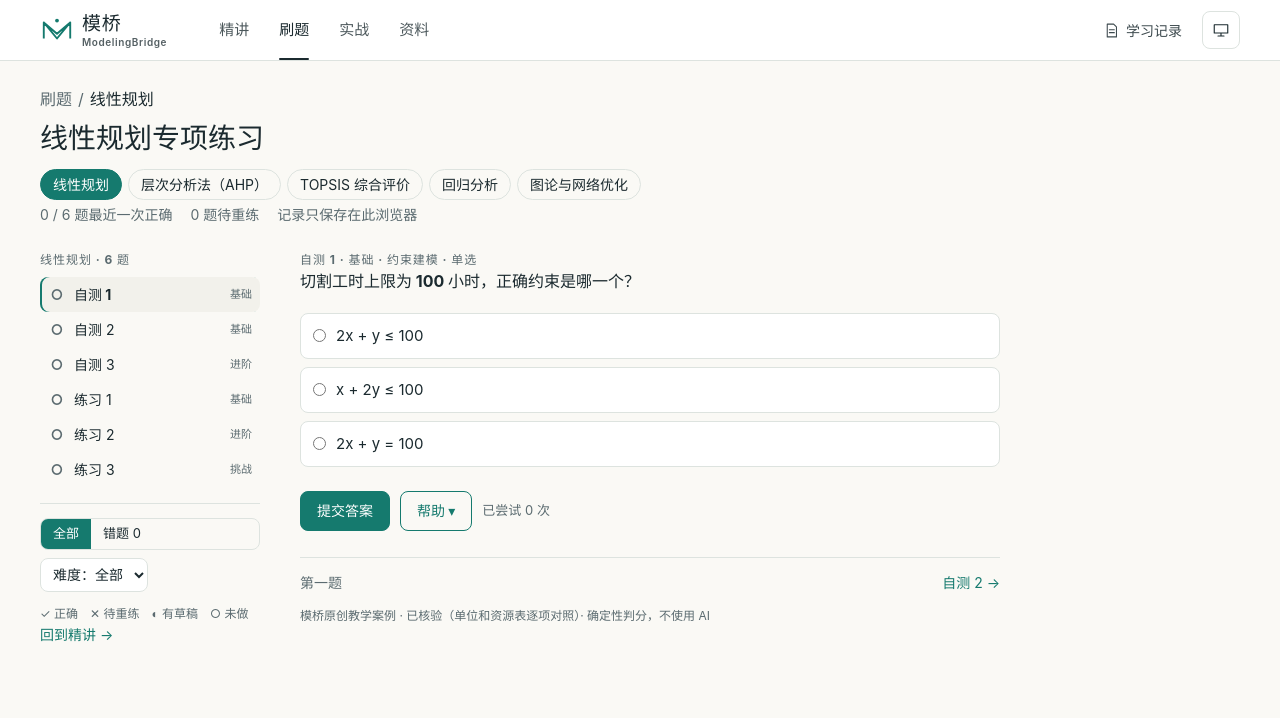
lets the learner dismiss the return bar without losing the draft
The width and height of the screenshot is (1280, 718).
Click the radio button labelled "x + 2y ≤ 100": (320, 389) [313,383,326,396]
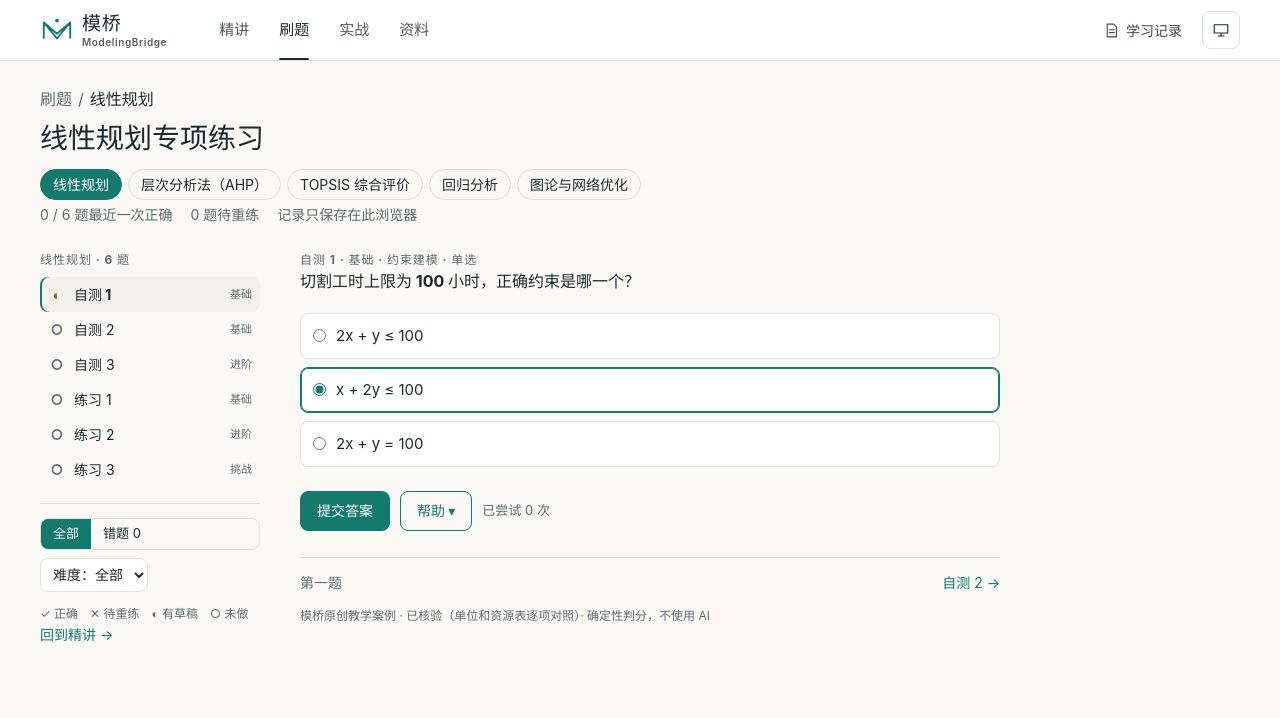
Click the button "提交答案": (345, 511) [300,491,390,531]
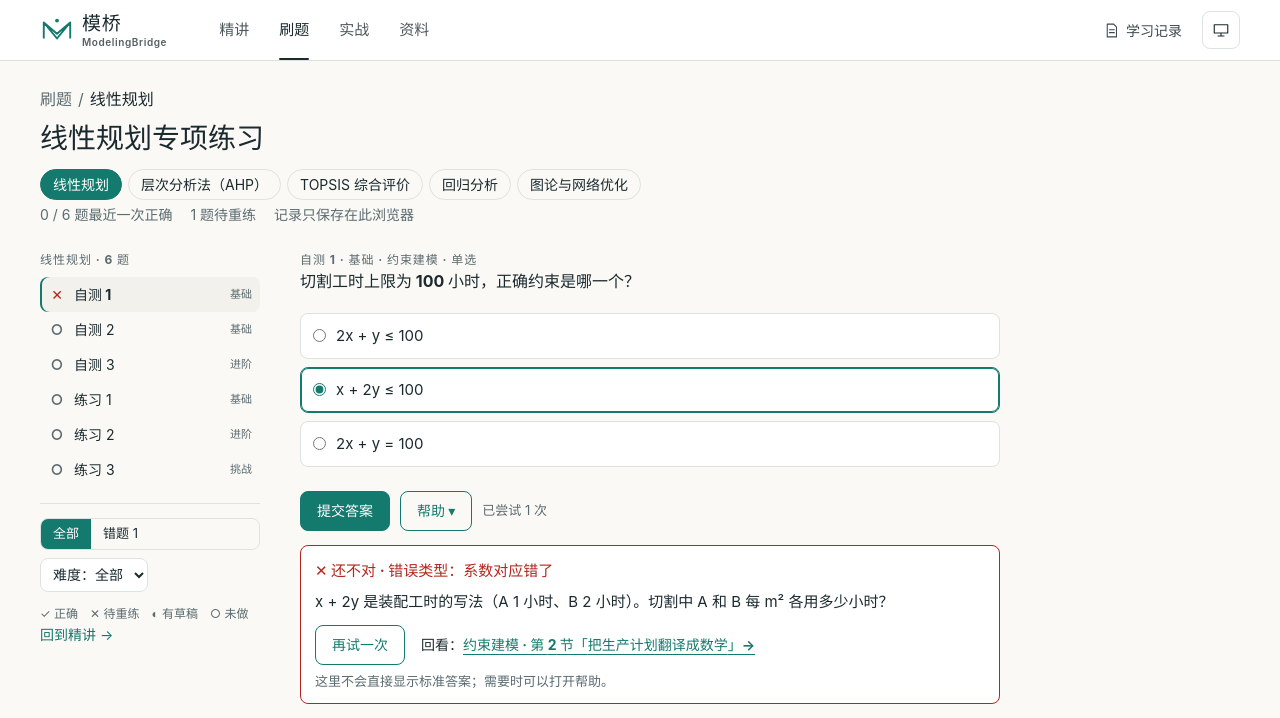
Click the button "约束建模 · 第 2 节「把生产计划翻译成数学」→": (609, 645) [463,633,755,656]
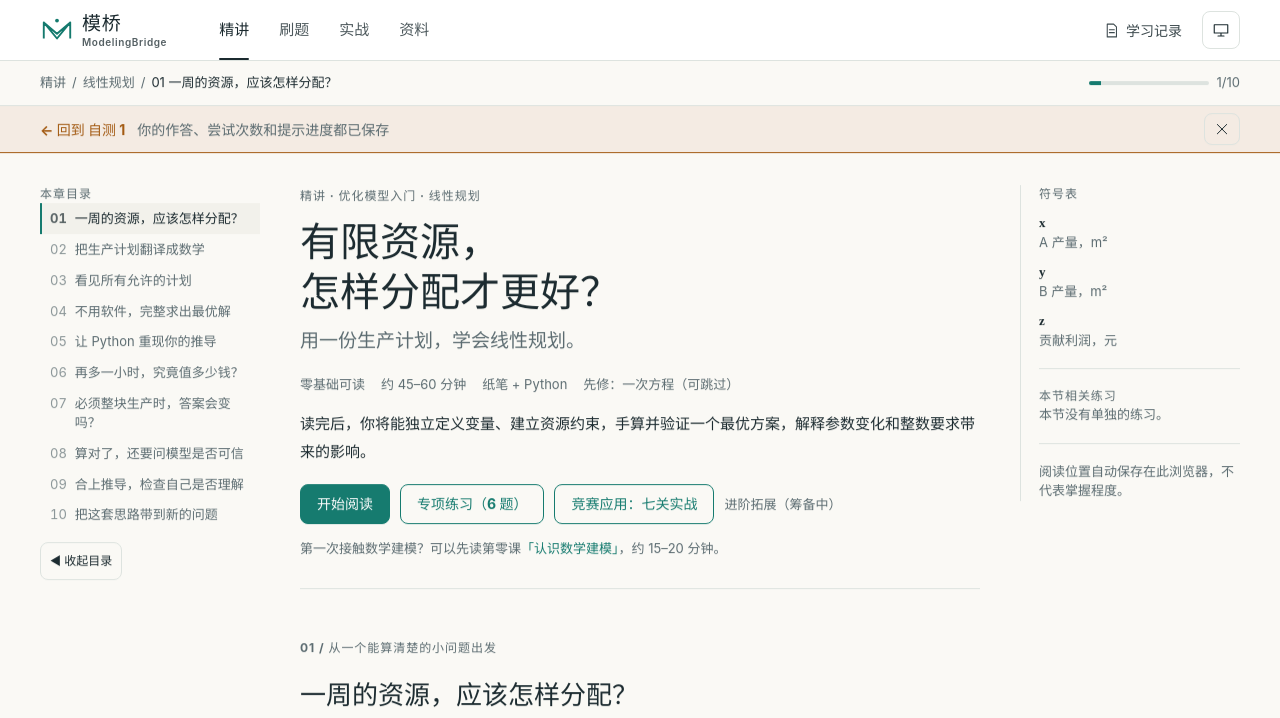
Click the button named "不再显示回程条": (1222, 129) [1204,113,1240,145]
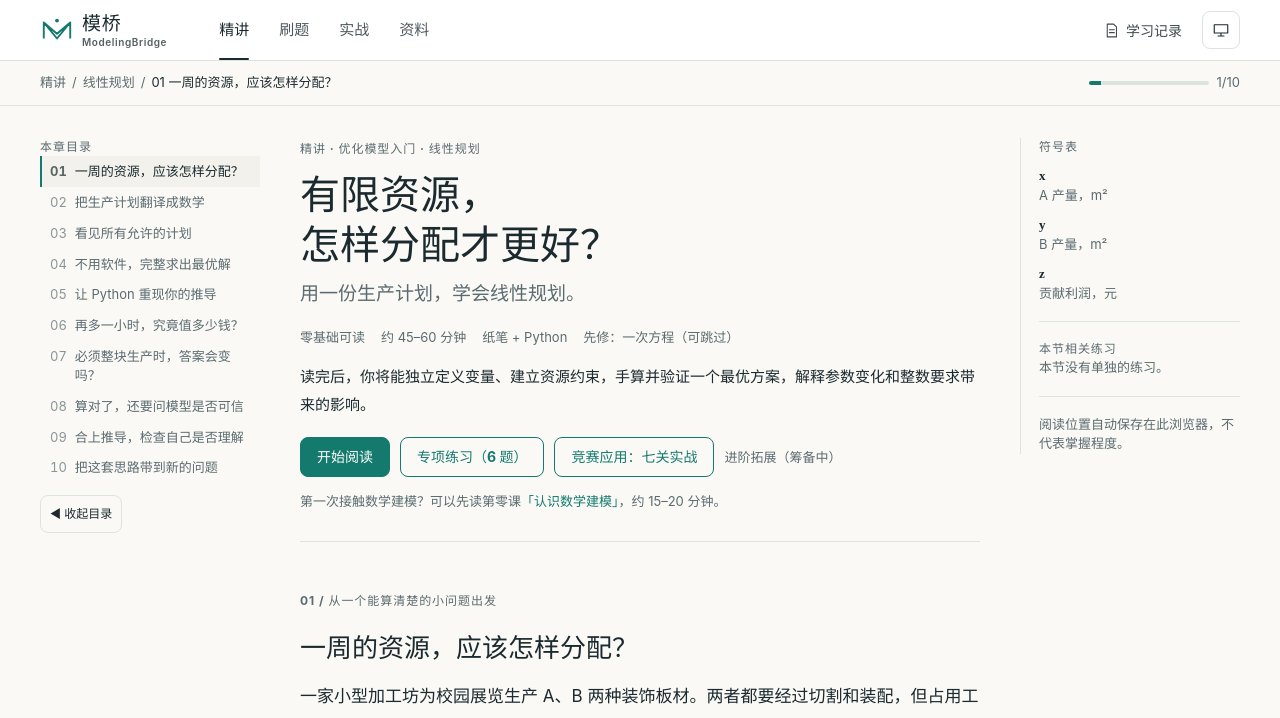
Check: the element "回到原题" is gone
